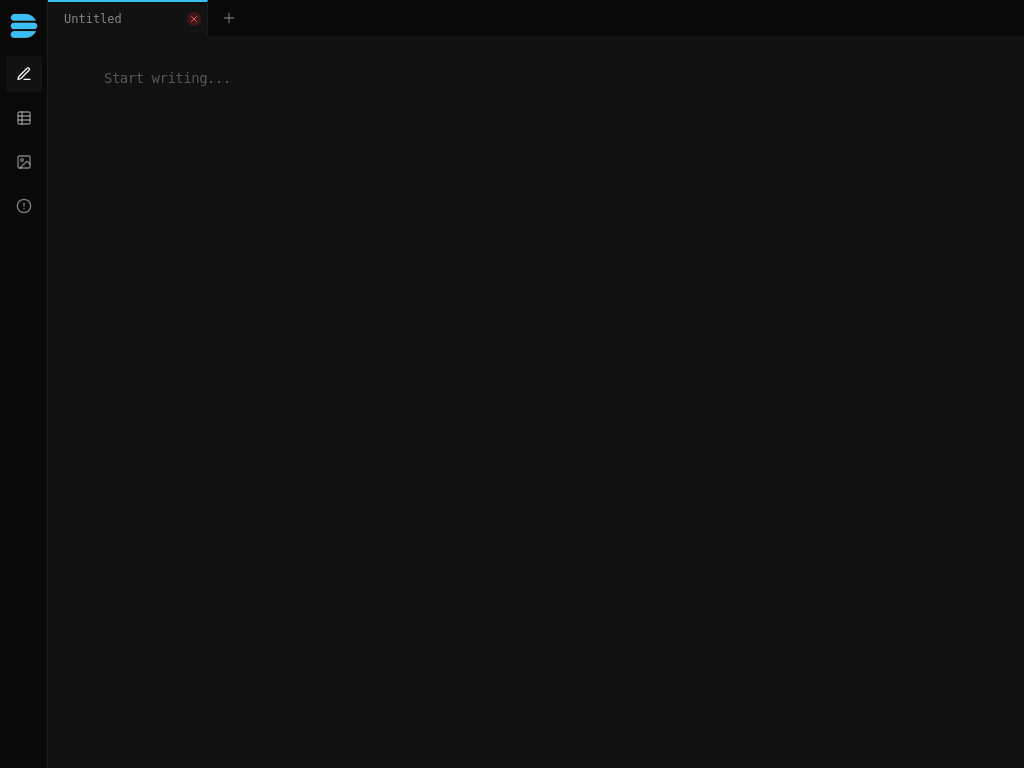
Test: TabsBar › asks for confirmation before closing a tab
The width and height of the screenshot is (1024, 768).
Click the button named "New tab".
click(229, 18)  # box 209,0 -> 249,36
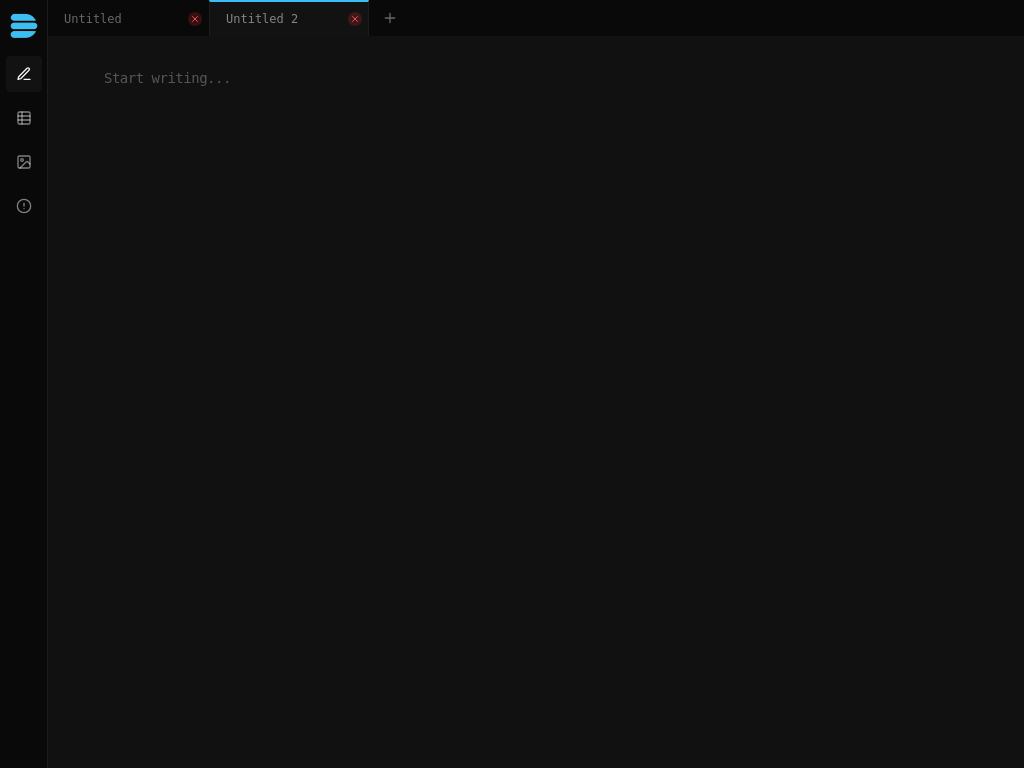
Click the button named "Close tab" next to "Untitled 2".
click(355, 19)  # box 348,12 -> 362,26
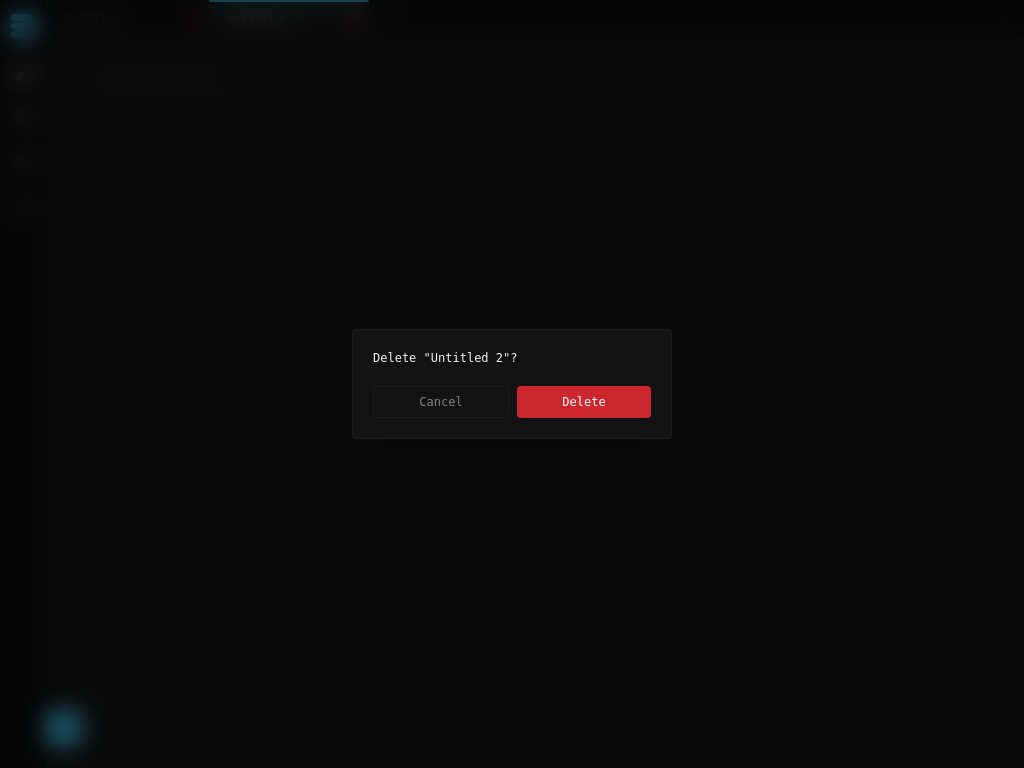
Check: the text "Delete \"Untitled 2\"?" is shown, box 373,351 -> 518,365
